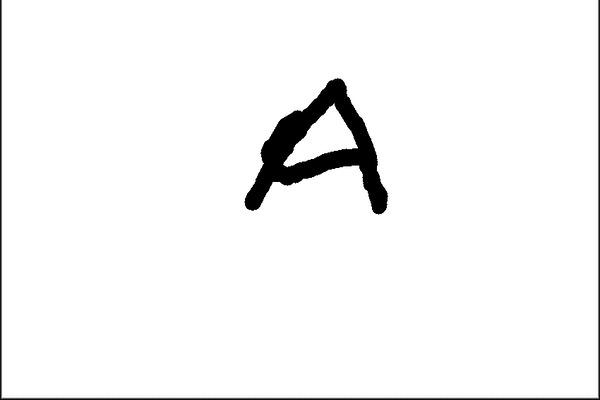A: (233, 72, 400, 223)
